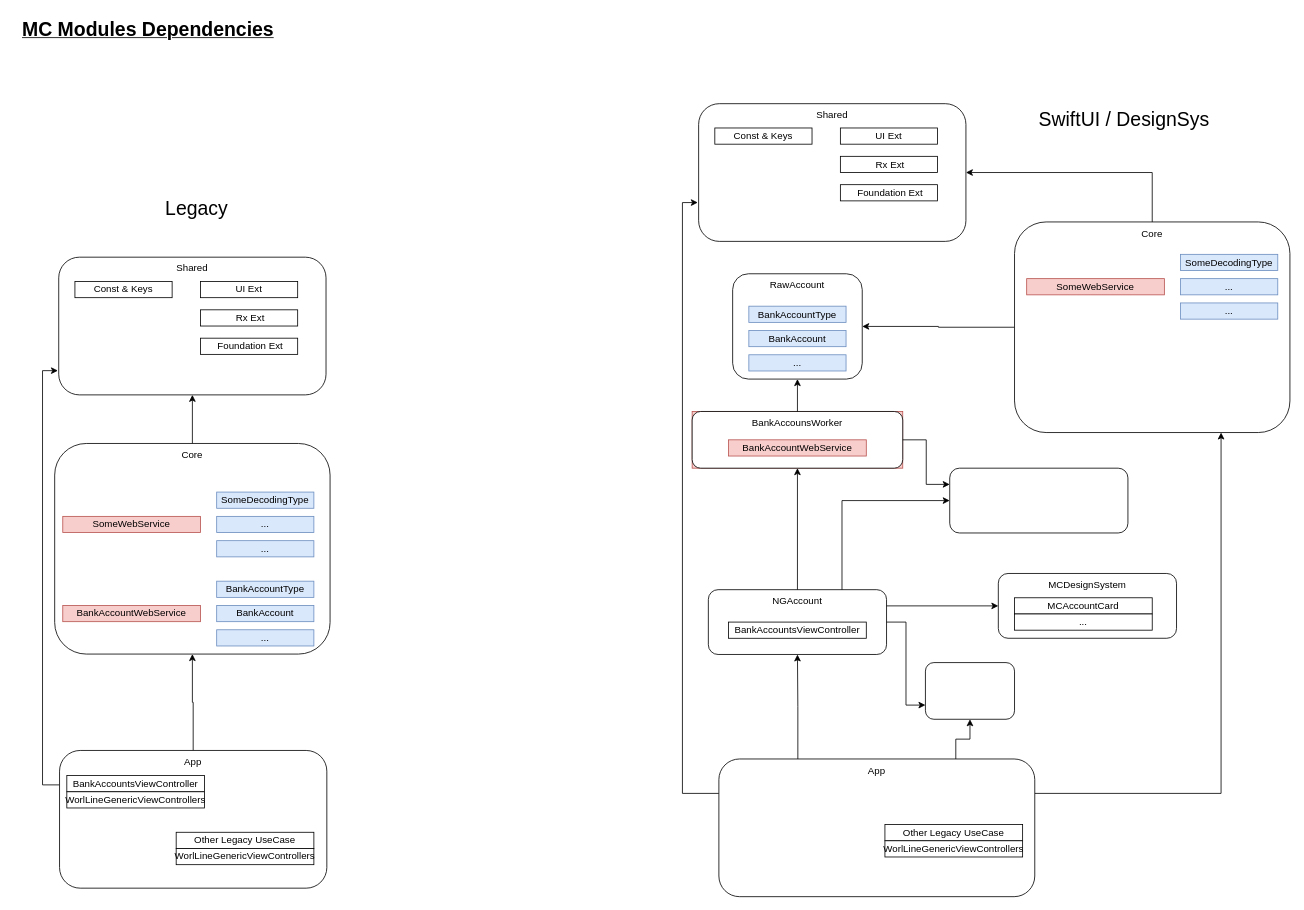
Some shapes in this 1304 by 910 pixel diagram are drawn without their labels. The centre of each missing label's shape, as x and y in pixels:
"Entity" belongs at pixel 1038 500.
"Routing" belongs at pixel 970 690.
